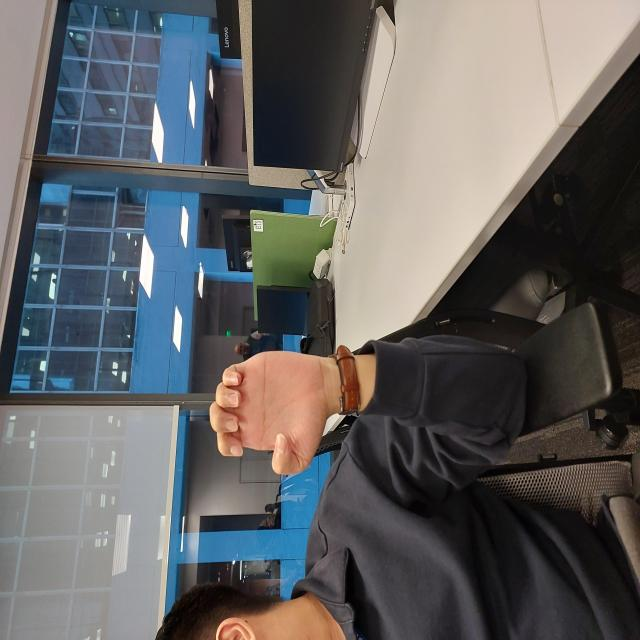E: (164, 208, 290, 325)
